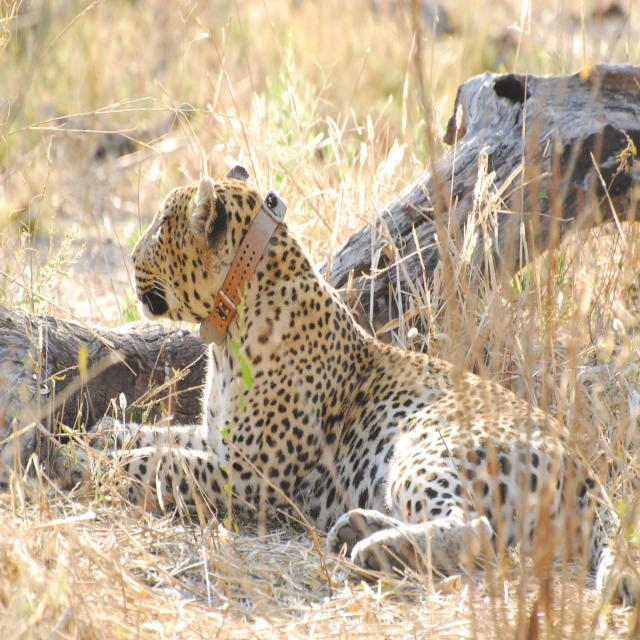Leopard: (80, 167, 626, 593)
